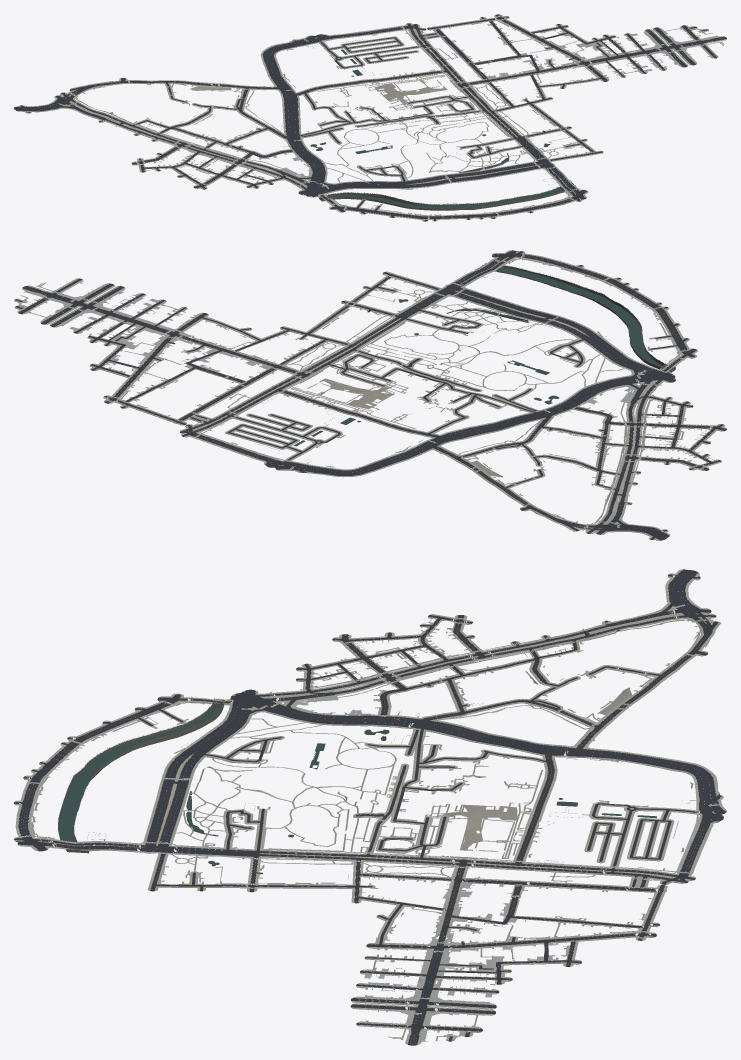
Rendered from shiba-pavement.glb.
3 renders of one model, top to bottom at view 1: azimuth 30°, elevation 25°; view 2: azimuth 150°, elevation 25°; view 3: azimuth 270°, elevation 25°, orthographic. The views are drawn at different scales.
Visible parts, largest first — view 1: paving-asphalt, paving-sidewalk, paving-forecourt, paving-apron, paving-tactile, paving-walkSkirt, paving-bank, paving-water, paving-curb, paving-zebra, paving-curbFace, paving-white; view 2: paving-asphalt, paving-sidewalk, paving-forecourt, paving-apron, paving-walkSkirt, paving-tactile, paving-water, paving-bank, paving-curb, paving-zebra; view 3: paving-asphalt, paving-sidewalk, paving-forecourt, paving-tactile, paving-apron, paving-walkSkirt, paving-curb, paving-water, paving-curbFace, paving-bank, paving-white, paving-zebra.
Boxes of the visible parts, x1,y1,x2,y2 form: paving-asphalt: [14, 14, 726, 221]; paving-sidewalk: [16, 14, 726, 221]; paving-forecourt: [76, 20, 724, 215]; paving-apron: [31, 20, 719, 215]; paving-tactile: [15, 15, 723, 219]; paving-walkSkirt: [17, 16, 726, 221]; paving-bank: [311, 50, 575, 210]; paving-water: [310, 49, 562, 208]; paving-curb: [27, 14, 703, 219]; paving-zebra: [27, 16, 703, 219]; paving-curbFace: [25, 16, 712, 219]; paving-white: [37, 17, 716, 218]; paving-asphalt: [14, 250, 726, 540]; paving-sidewalk: [14, 250, 726, 540]; paving-forecourt: [18, 258, 713, 524]; paving-apron: [16, 258, 714, 534]; paving-walkSkirt: [14, 257, 724, 540]; paving-tactile: [20, 251, 722, 539]; paving-water: [294, 267, 675, 446]; paving-bank: [322, 263, 675, 431]; paving-curb: [19, 251, 718, 539]; paving-zebra: [22, 254, 712, 531]; paving-asphalt: [14, 569, 725, 1045]; paving-sidewalk: [14, 569, 726, 1044]; paving-forecourt: [32, 619, 712, 1041]; paving-tactile: [15, 570, 724, 1043]; paving-apron: [31, 583, 717, 1043]; paving-walkSkirt: [14, 575, 723, 1044]; paving-curb: [14, 571, 721, 1043]; paving-water: [58, 707, 656, 865]; paving-curbFace: [15, 570, 718, 1035]; paving-bank: [58, 699, 656, 866]; paving-white: [16, 570, 720, 1044]; paving-zebra: [19, 575, 719, 1031].
Bounding box in the file's own units: 1281 × 27.84 × 844.
14 materials, 11 textured.
